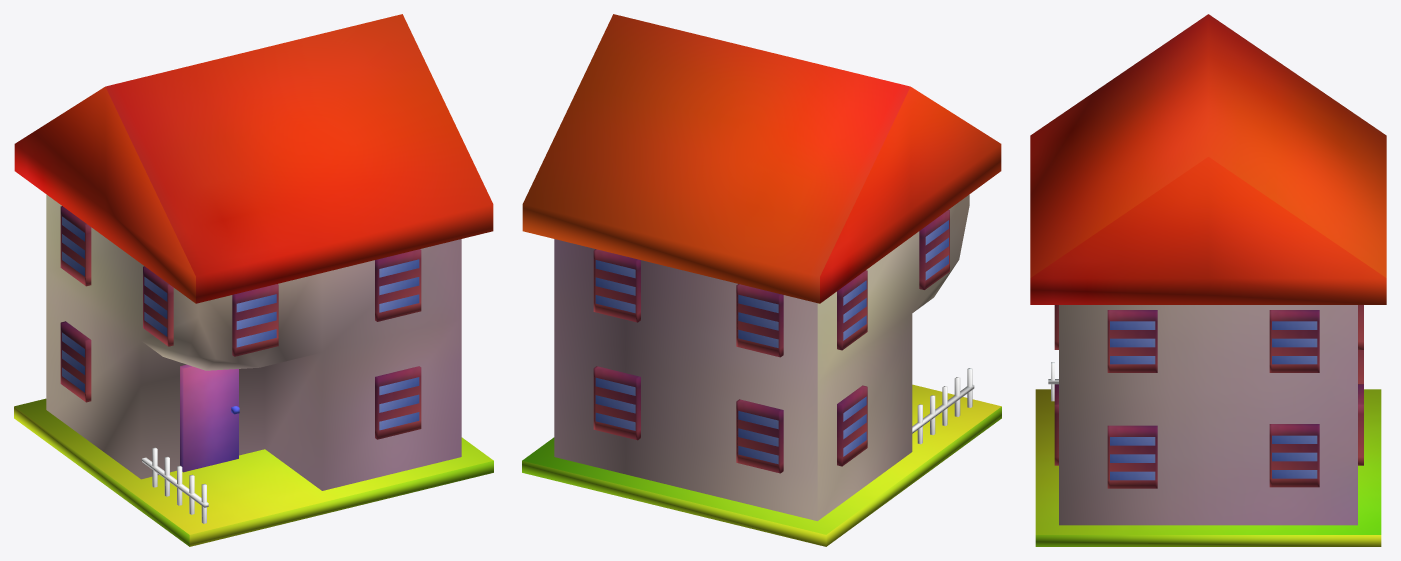
The model's file is House5.fbx.
The picture shows the model from 3 angles, left to right: view 1: azimuth 30°, elevation 25°; view 2: azimuth 150°, elevation 25°; view 3: azimuth 270°, elevation 25°; orthographic projection.
Parts seen in each view (by area): view 1: House.5; view 2: House.5; view 3: House.5.
Part boxes in pixels (bbox=[...]): House.5: bbox=[14, 14, 493, 546]; House.5: bbox=[522, 14, 1001, 546]; House.5: bbox=[1030, 14, 1386, 546].
Size of the model in its own units: 713 by 885 by 736.
1 material, 1 textured.
